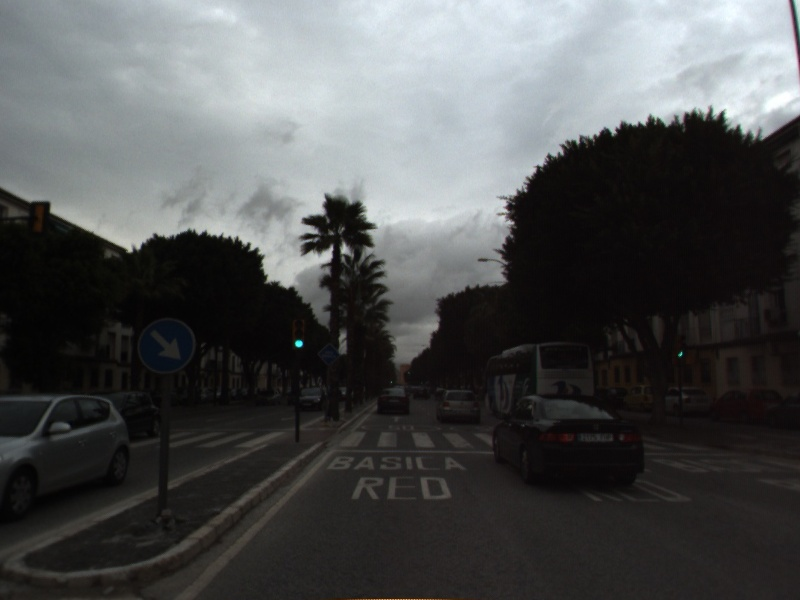STRAIGHT: (388, 413, 405, 424)
